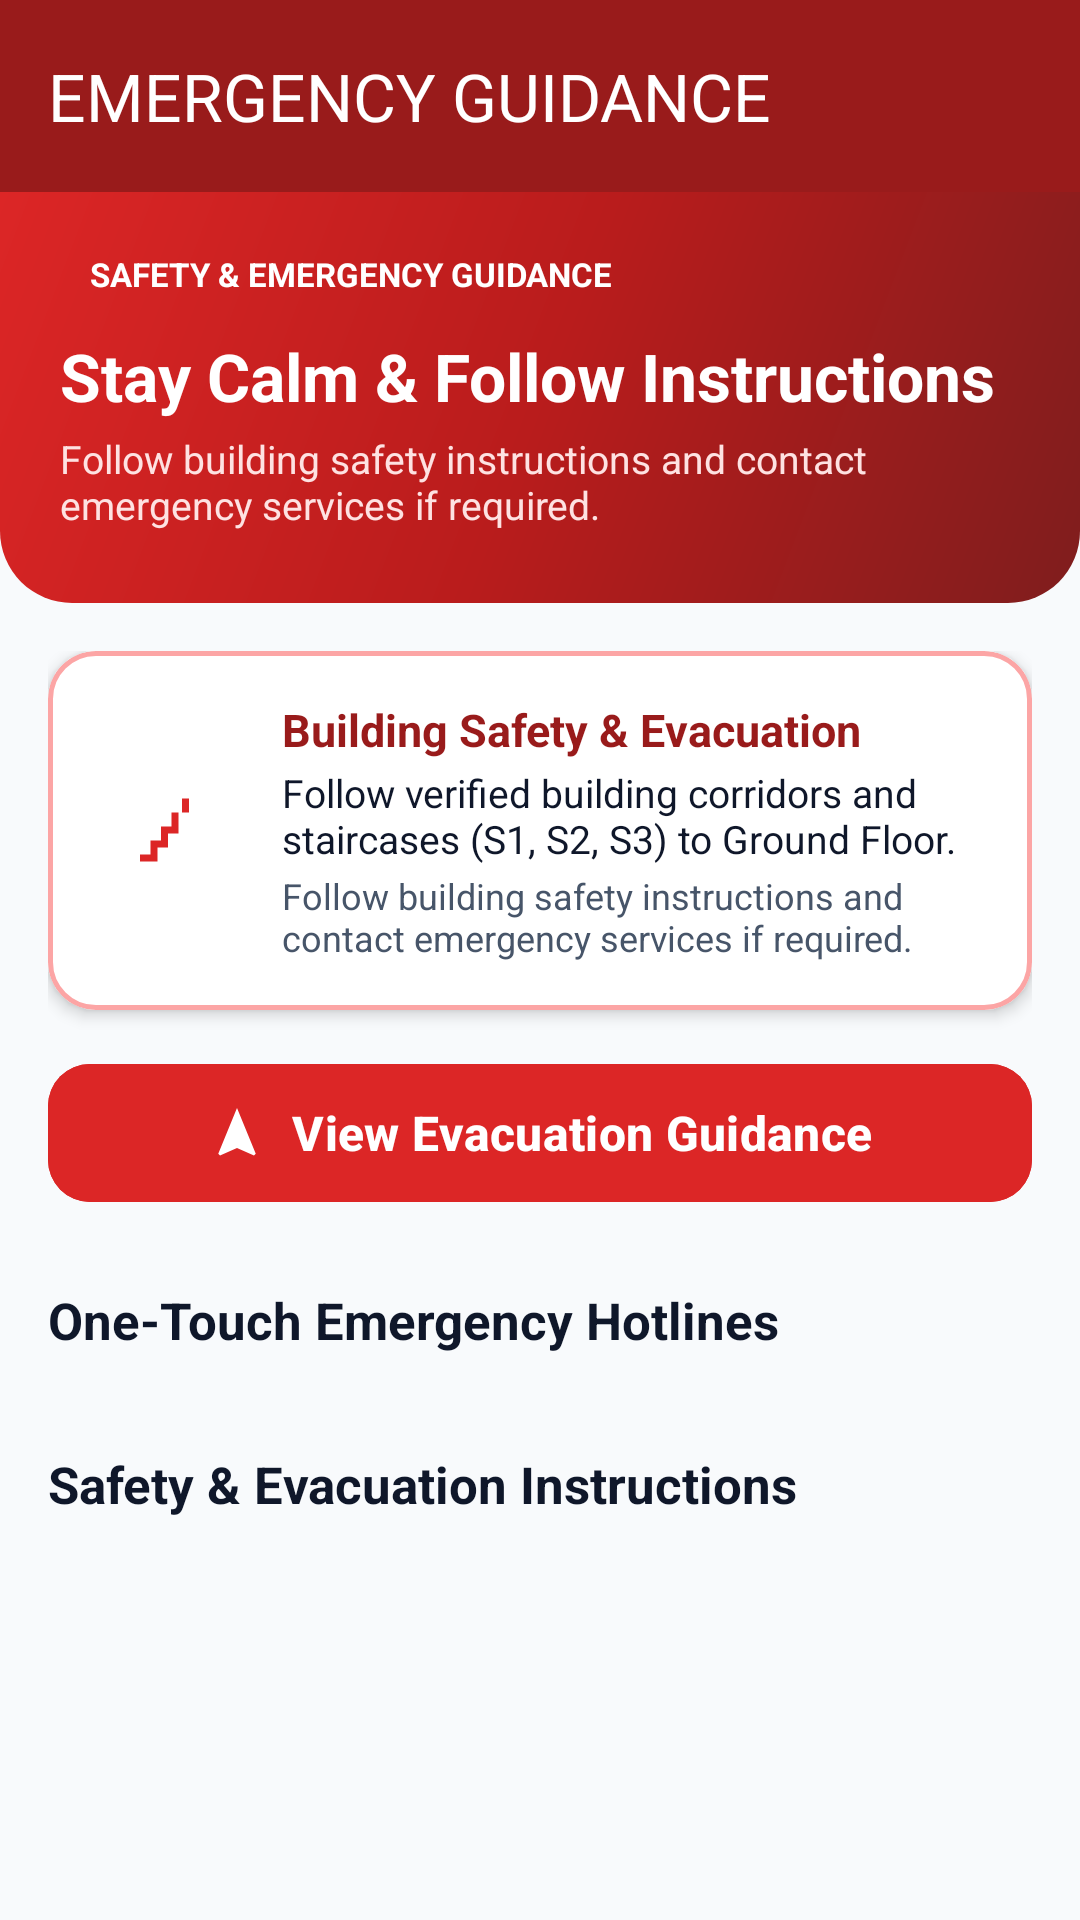

Screen size 1080 × 1920. Icon name, then its center in pixels as (x=x, y=y):
stairs: (x=164, y=830)
